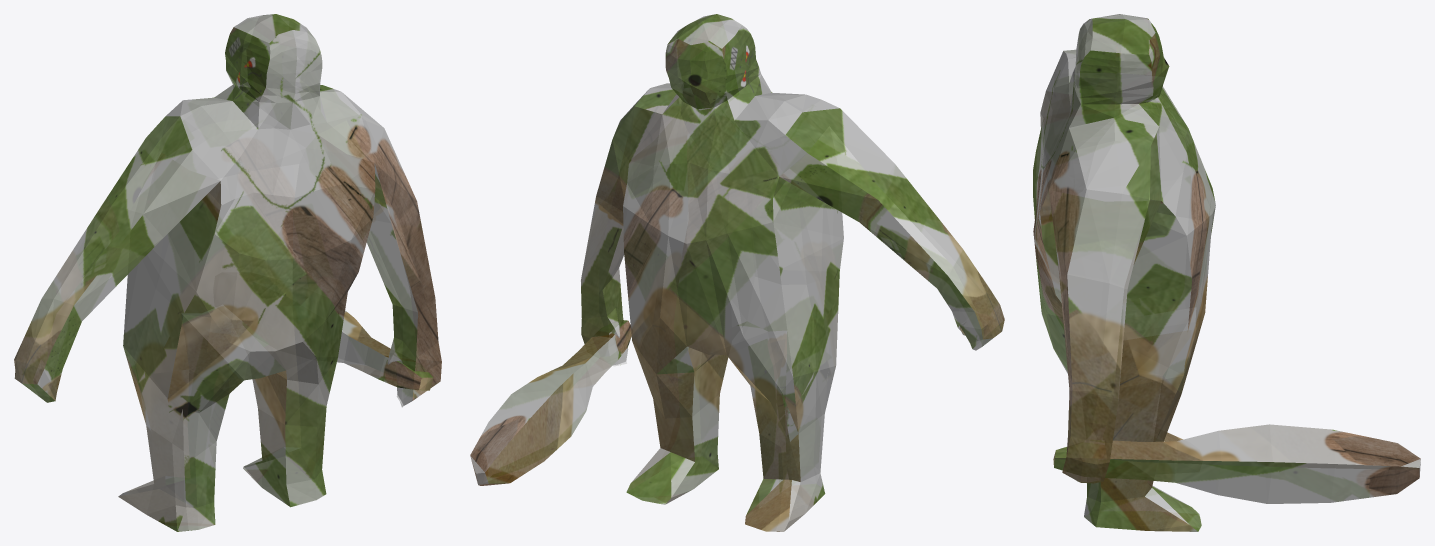
The model's file is Enemigo29.obj.
3 renders of one model, left to right at view 1: azimuth 30°, elevation 25°; view 2: azimuth 150°, elevation 25°; view 3: azimuth 270°, elevation 25°, orthographic. The views are drawn at different scales.
Parts seen in each view (by area): view 1: Cube; view 2: Cube; view 3: Cube.
Part boxes in pixels (box(x1,y1,x2,y2)): Cube: box(14, 14, 441, 531); Cube: box(470, 14, 1004, 531); Cube: box(1033, 14, 1420, 531).
Bounding box in the file's own units: 2.47 × 2.69 × 1.91.
1 material, 1 textured.
